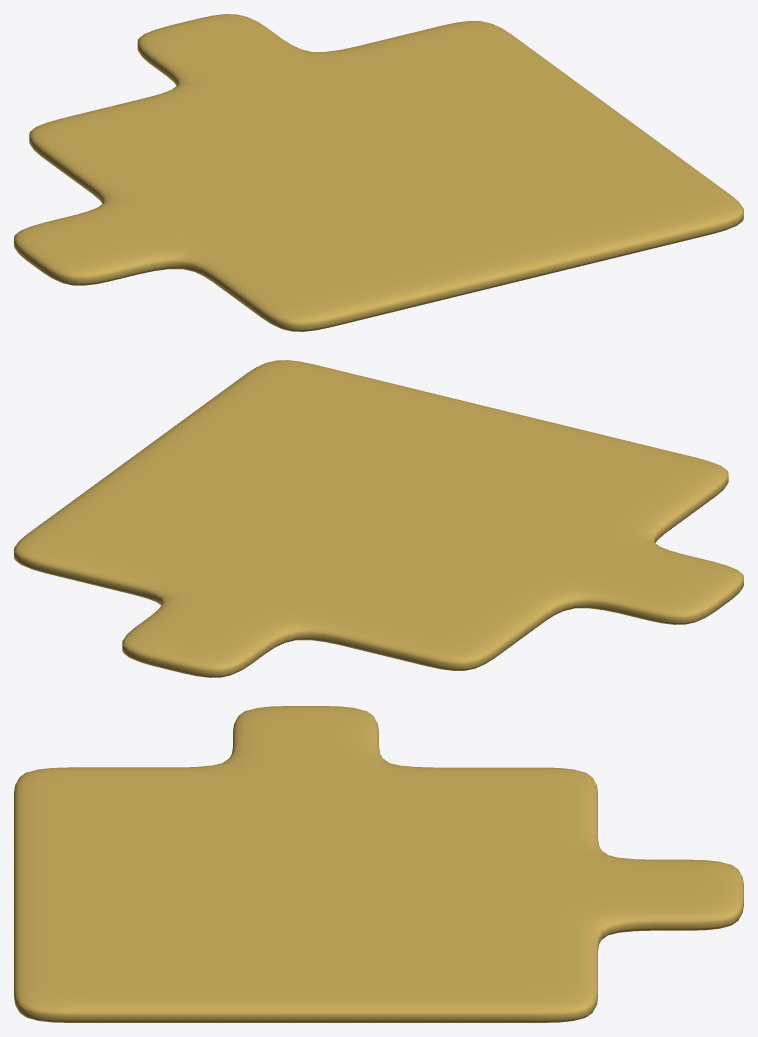
The model's file is GoldenPuzzle-18-OOMM.fbx.
3 renders of one model, top to bottom at view 1: azimuth 30°, elevation 25°; view 2: azimuth 150°, elevation 25°; view 3: azimuth 270°, elevation 25°, orthographic. The views are drawn at different scales.
Visible parts, largest first — view 1: Puzzle_018; view 2: Puzzle_018; view 3: Puzzle_018.
Boxes of the visible parts, left/top/right/bottom form: Puzzle_018: left=14, top=14, right=743, bottom=331; Puzzle_018: left=14, top=360, right=743, bottom=677; Puzzle_018: left=14, top=706, right=743, bottom=1022.
Bounding box in the file's own units: 0.3125 × 0.00924 × 0.3136.
